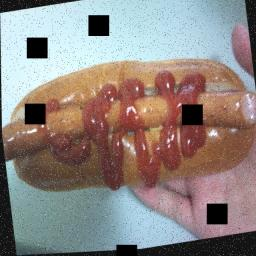hotdog: (0, 40, 256, 225)
